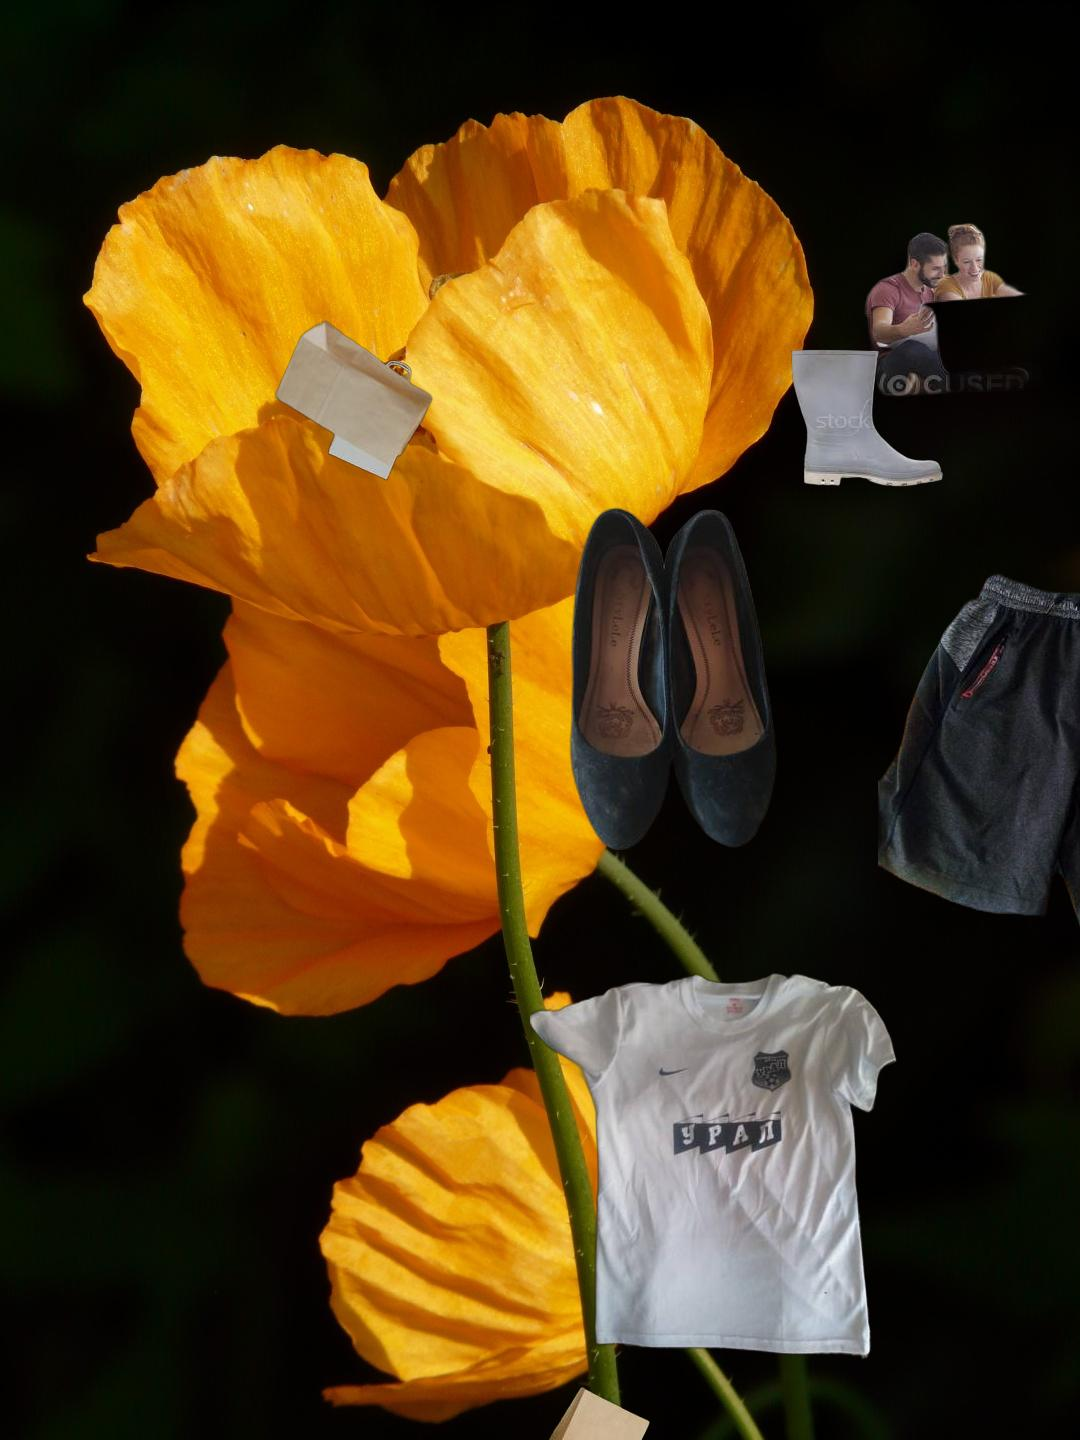clothes: (530, 959, 900, 1364), (878, 569, 1080, 935)
paper-bag: (273, 319, 434, 481), (529, 1382, 653, 1440)
shoes: (566, 505, 782, 854), (788, 347, 946, 493)
trashbox-cardboard: (216, 1291, 827, 1440), (860, 219, 1056, 401)
